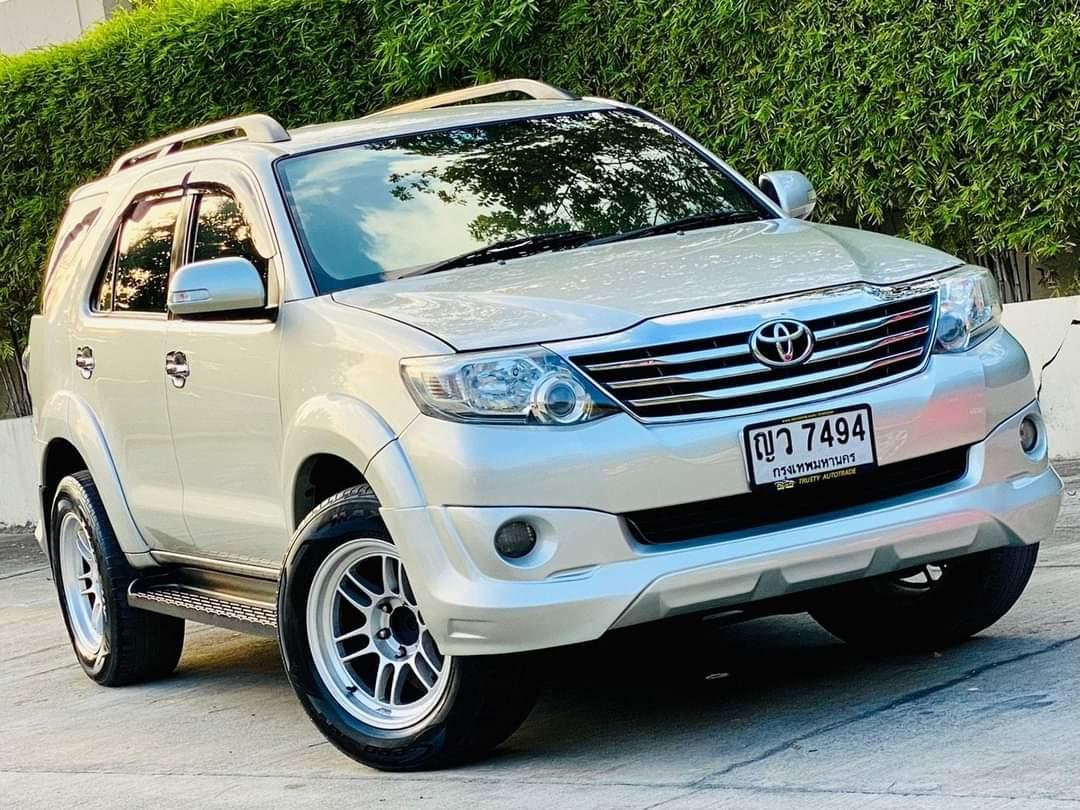license-plate: (745, 400, 877, 506)
